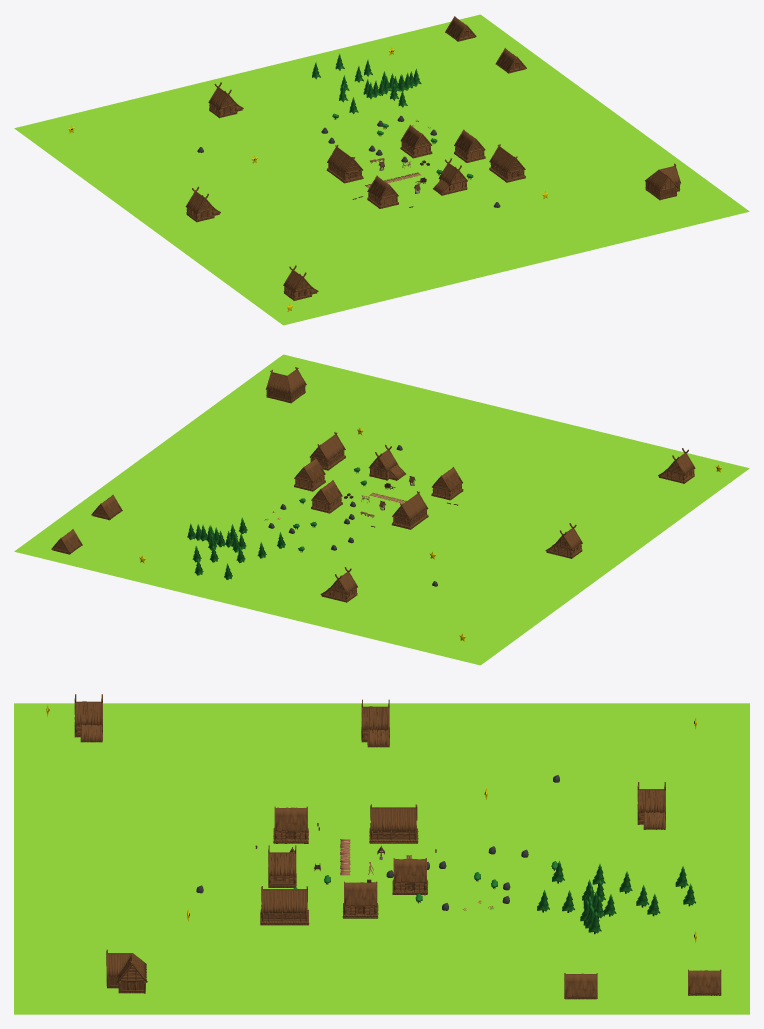
The model's file is MyMap4.glb.
3 renders of one model, top to bottom at view 1: azimuth 30°, elevation 25°; view 2: azimuth 150°, elevation 25°; view 3: azimuth 270°, elevation 25°, orthographic. The views are drawn at different scales.
Visible parts, largest first — view 1: Prostokąt, rpgpp_lt_building_05, rpgpp_lt_building_01.001, rpgpp_lt_building_01, rpgpp_lt_building_03.003, rpgpp_lt_building_04.001, rpgpp_lt_building_04, rpgpp_lt_building_04.002, rpgpp_lt_building_03, rpgpp_lt_building_03.002, rpgpp_lt_building_03.001; view 2: Prostokąt, rpgpp_lt_building_05, rpgpp_lt_building_01, rpgpp_lt_building_01.001, rpgpp_lt_building_03.003, rpgpp_lt_building_03.002, rpgpp_lt_building_03, rpgpp_lt_building_03.001, rpgpp_lt_building_04.002, rpgpp_lt_building_04, rpgpp_lt_building_04.001; view 3: Prostokąt, rpgpp_lt_building_01, rpgpp_lt_building_01.001, rpgpp_lt_building_05, rpgpp_lt_building_04.002, rpgpp_lt_building_04, rpgpp_lt_building_04.001, rpgpp_lt_building_03.002, rpgpp_lt_building_03.001, rpgpp_lt_building_03, rpgpp_lt_building_03.003, rpgpp_lt_building_02 (+1 smaller).
Part boxes in pixels (x1,y1,x2,y2): Prostokąt: (14,14,749,325); rpgpp_lt_building_05: (645,163,680,200); rpgpp_lt_building_01.001: (489,144,525,182); rpgpp_lt_building_01: (326,144,363,183); rpgpp_lt_building_03.003: (433,158,467,195); rpgpp_lt_building_04.001: (400,124,432,158); rpgpp_lt_building_04: (367,175,398,208); rpgpp_lt_building_04.002: (454,129,485,162); rpgpp_lt_building_03: (208,82,243,118); rpgpp_lt_building_03.002: (283,265,318,300); rpgpp_lt_building_03.001: (185,186,220,222); Prostokąt: (14,354,749,665); rpgpp_lt_building_05: (266,367,306,403); rpgpp_lt_building_01: (391,491,428,529); rpgpp_lt_building_01.001: (309,432,345,470); rpgpp_lt_building_03.003: (368,444,405,480); rpgpp_lt_building_03.002: (658,448,695,483); rpgpp_lt_building_03: (320,567,357,602); rpgpp_lt_building_03.001: (545,523,582,558); rpgpp_lt_building_04.002: (294,458,325,491); rpgpp_lt_building_04: (431,467,463,500); rpgpp_lt_building_04.001: (311,480,342,513); Prostokąt: (14,703,749,1014); rpgpp_lt_building_01: (369,804,418,843); rpgpp_lt_building_01.001: (260,886,309,925); rpgpp_lt_building_05: (106,949,147,993); rpgpp_lt_building_04.002: (342,881,378,918); rpgpp_lt_building_04: (273,806,308,843); rpgpp_lt_building_04.001: (392,858,427,895); rpgpp_lt_building_03.002: (74,694,102,742); rpgpp_lt_building_03.001: (361,699,389,747); rpgpp_lt_building_03: (637,782,665,829); rpgpp_lt_building_03.003: (268,845,296,887); rpgpp_lt_building_02: (564,973,597,999).
Size of what is drawn, in the model's own units: 200 by 11.69 by 200.
